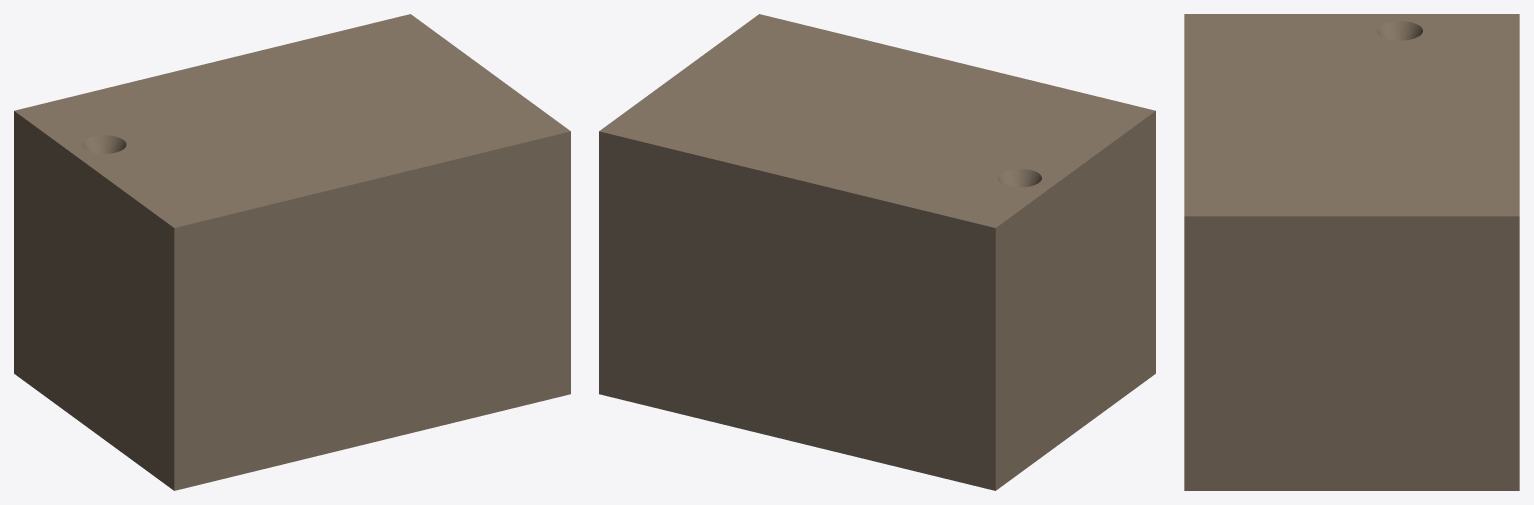
File: despiece.glb
3 renders of one model, left to right at view 1: azimuth 30°, elevation 25°; view 2: azimuth 150°, elevation 25°; view 3: azimuth 270°, elevation 25°, orthographic. The views are drawn at different scales.
Parts seen in each view (by area): view 1: moldeA, moldeB; view 2: moldeA, moldeB; view 3: moldeA, moldeB.
Boxes of the visible parts, x1=… form: moldeA: x1=14, y1=14, x2=570, y2=359; moldeB: x1=14, y1=242, x2=570, y2=490; moldeA: x1=599, y1=14, x2=1155, y2=359; moldeB: x1=599, y1=242, x2=1155, y2=490; moldeA: x1=1184, y1=14, x2=1519, y2=353; moldeB: x1=1184, y1=353, x2=1519, y2=490.
Size of the model in its own units: 0.6 by 0.38 by 0.42.
